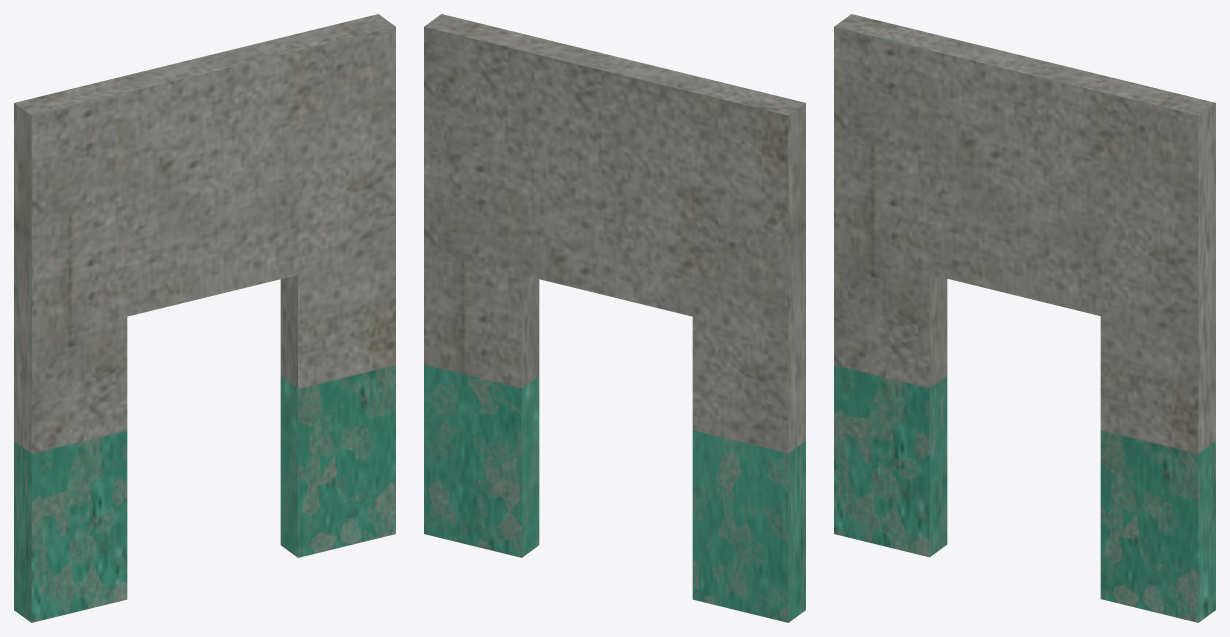
The model's file is wall._3x3_dirka_atrium.glb.
3 views of the same model, side by side, from view 1: azimuth 30°, elevation 25°; view 2: azimuth 150°, elevation 25°; view 3: azimuth 330°, elevation 25° (orthographic).
Visible parts, largest first — view 1: Plane; view 2: Plane; view 3: Plane.
Part boxes in pixels (<box>): Plane: <box>14,14,395,622</box>; Plane: <box>424,14,805,622</box>; Plane: <box>834,14,1215,622</box>.
Bounding box in the file's own units: 3 × 3.99 × 0.25.
2 materials, 2 textured.
